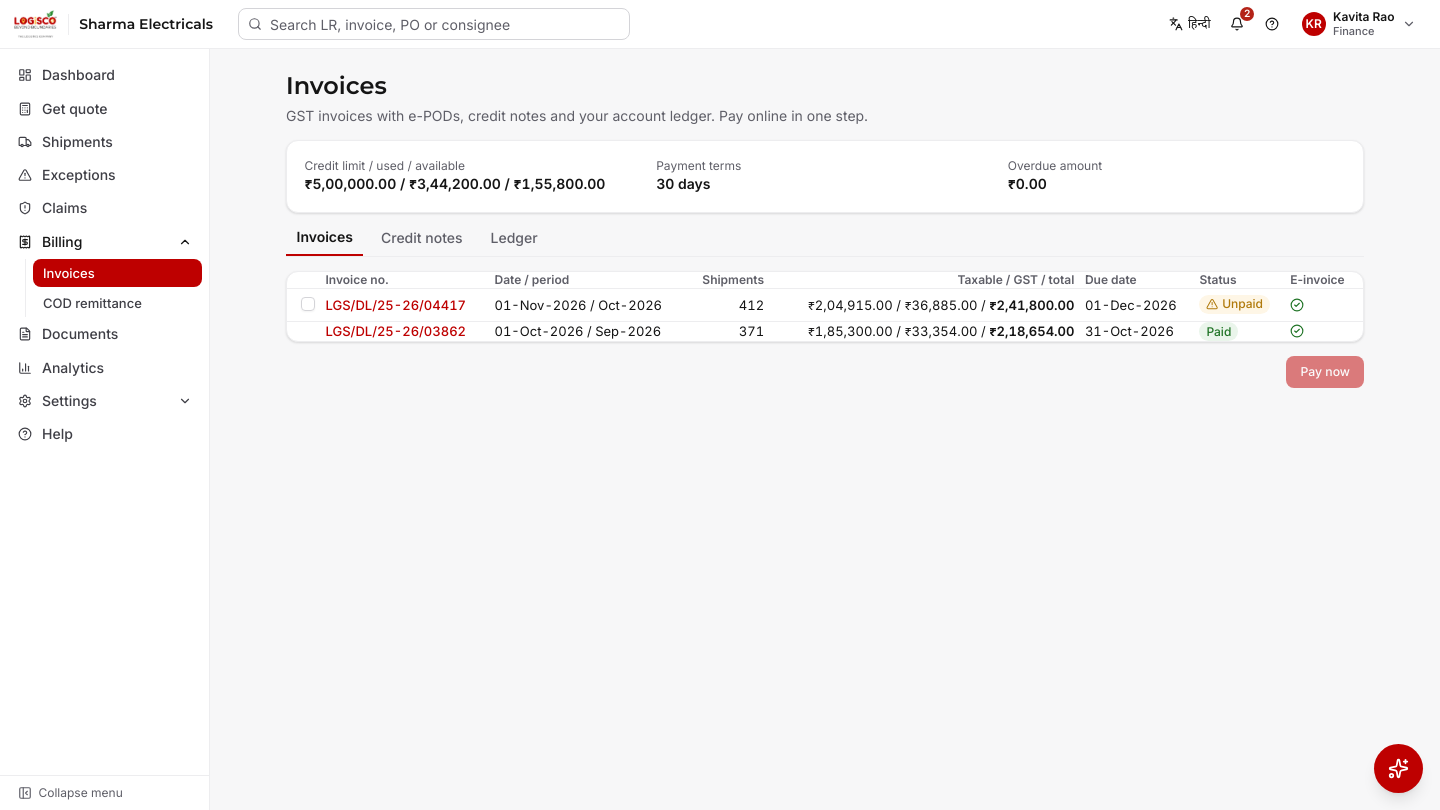
Test case: Customer money: CP-23, CP-24, CP-25, PA-34, PA-36, ERP-31, ERP-34 › CP-24: Kavita sees the credit summary, pays the October invoice, and the ledger shows it
The width and height of the screenshot is (1440, 810).
Expected: the element with test id "credit" shows "₹5,00,000.00 / ₹3,44,200.00 / ₹1,55,800.00", top-left (304, 175), bottom-right (605, 192)
Expected: the element with test id "credit" shows "30 days", top-left (656, 175), bottom-right (711, 192)
Click the checkbox: (308, 304) top-left (301, 296), bottom-right (315, 310)
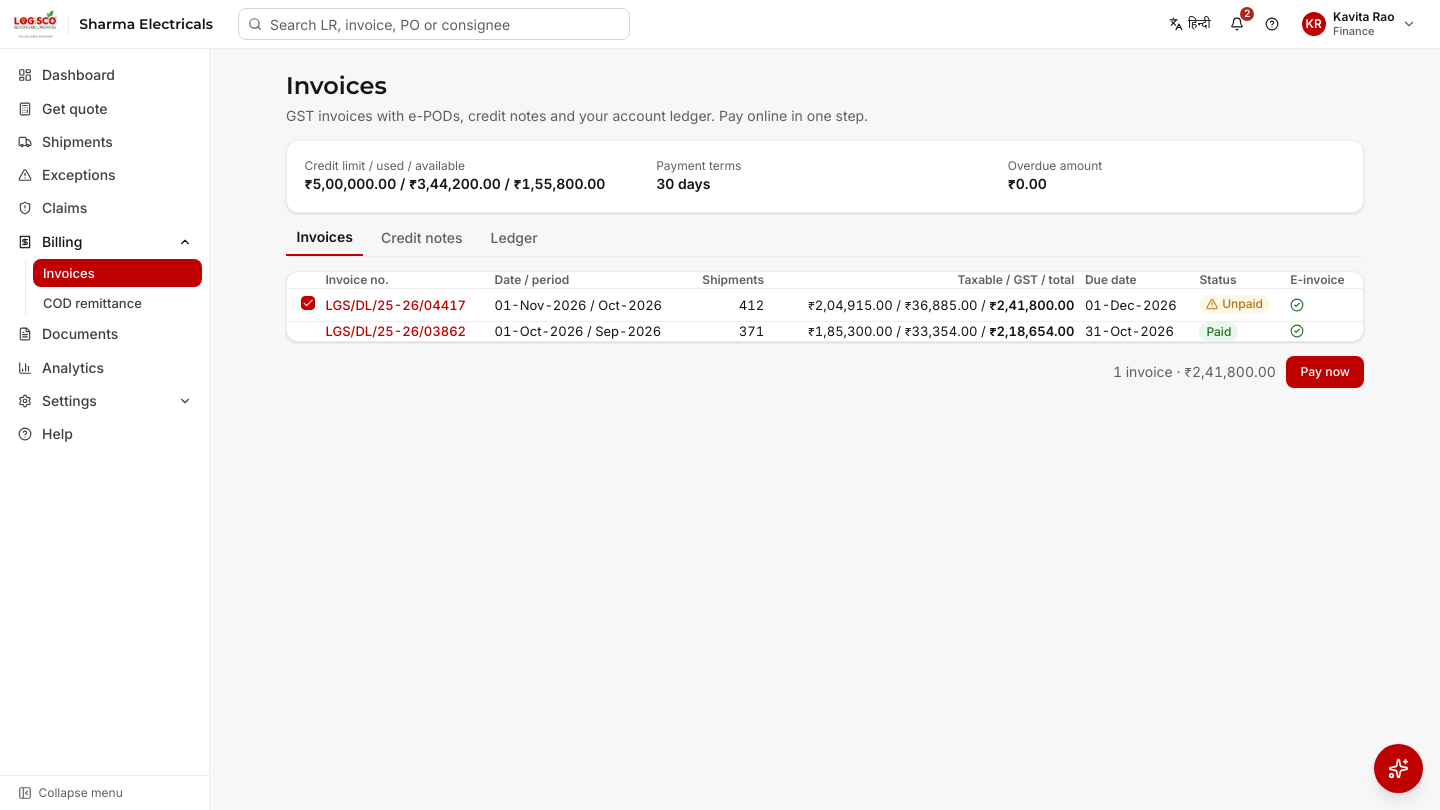
Click the button "Pay now": (1325, 372) top-left (1286, 356), bottom-right (1364, 388)
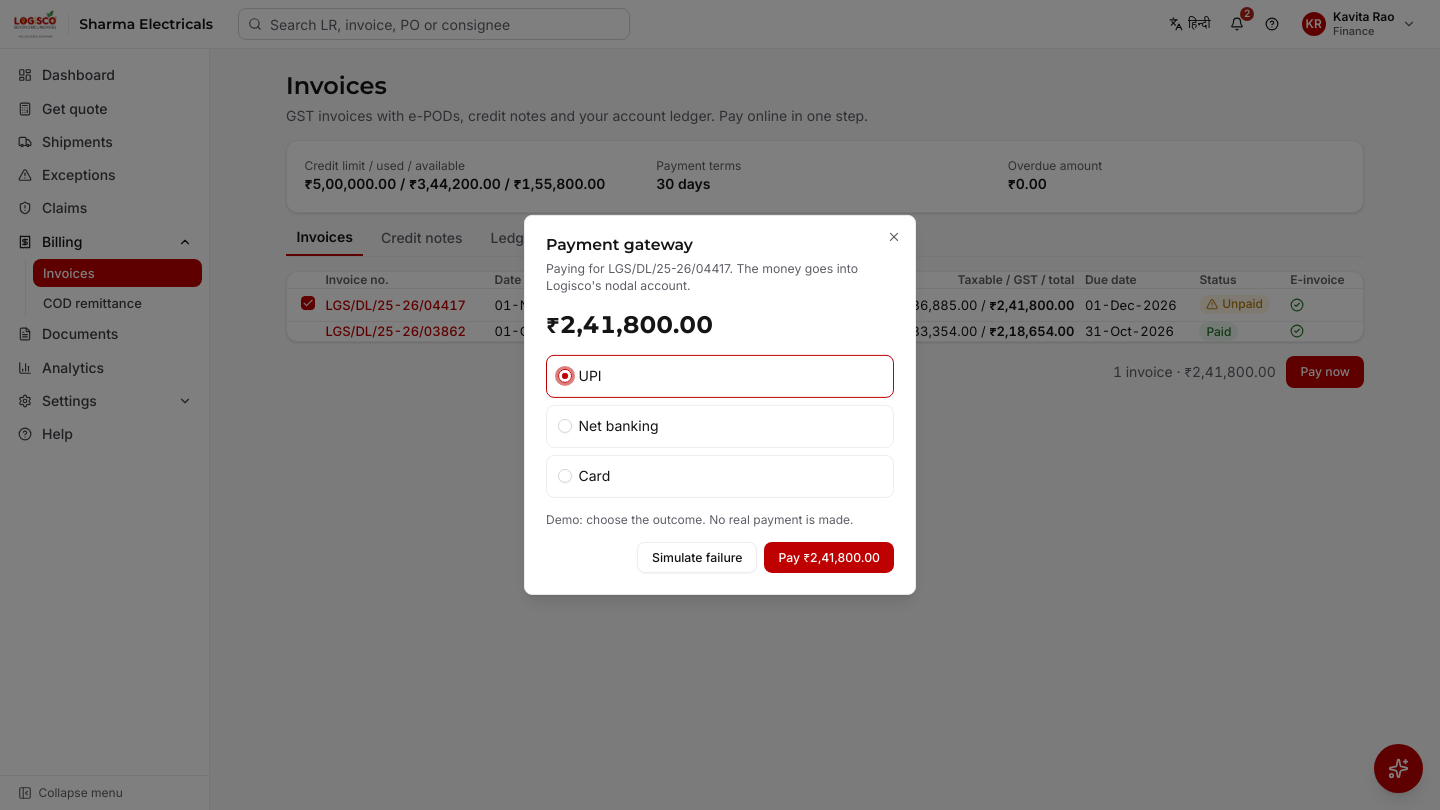
Expected: the text with test id "pay-amount" reads "₹2,41,800.00", top-left (546, 310), bottom-right (713, 339)
Click the radio button named "Net banking": (564, 426) top-left (558, 419), bottom-right (572, 433)
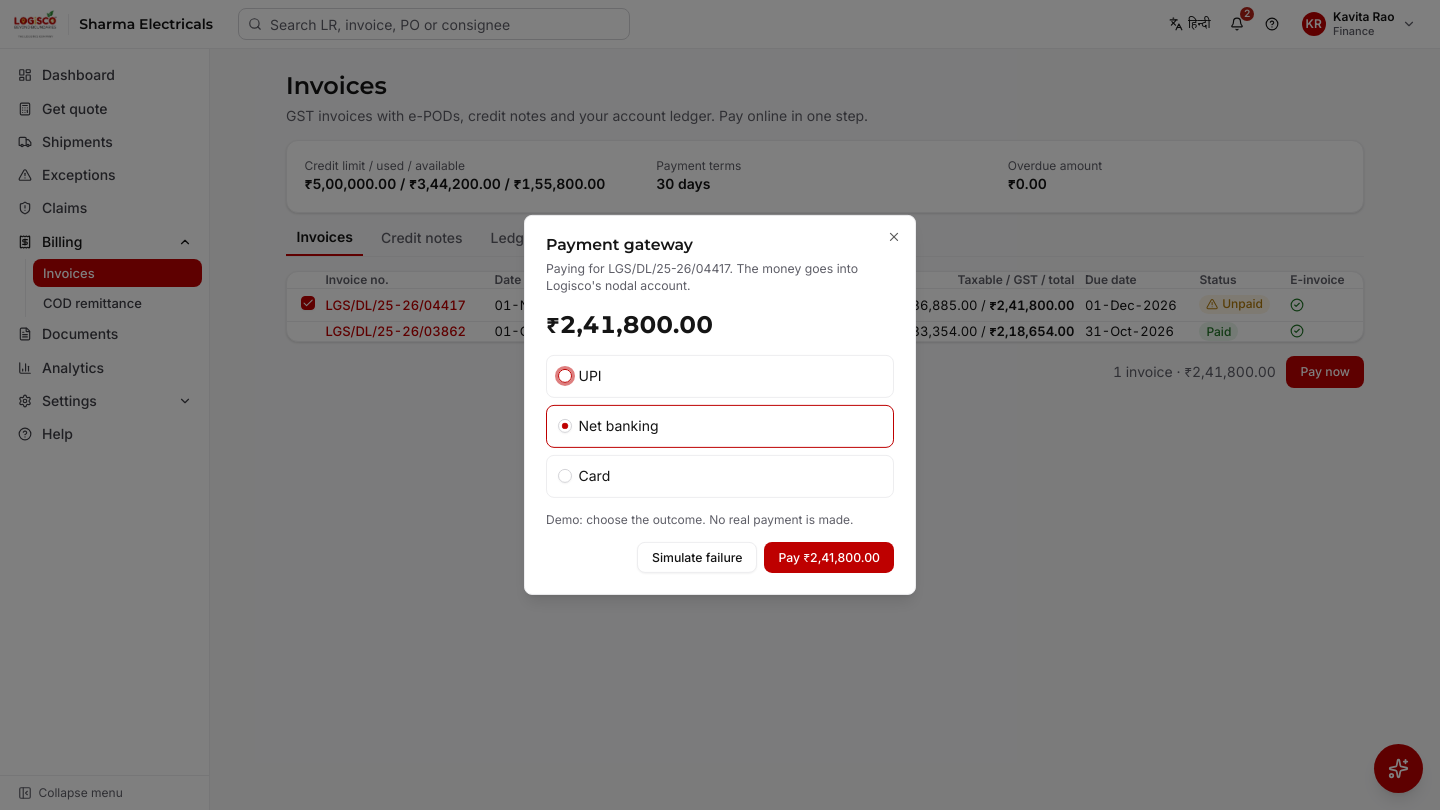
Click the button "Pay ₹2,41,800.00": (829, 557) top-left (764, 542), bottom-right (894, 573)
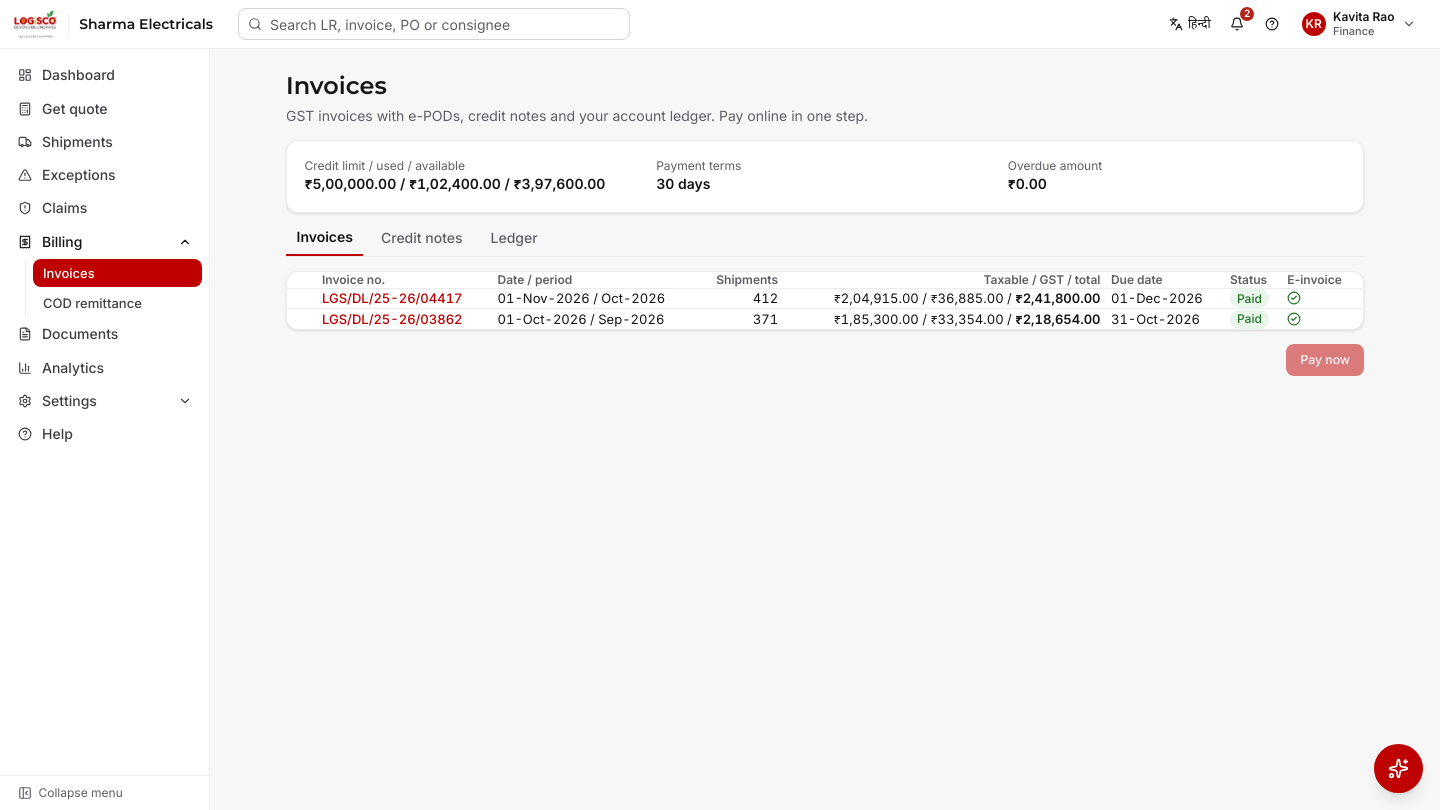
Expected: the row "LGS/DL/25-26/04417" shows "Paid", top-left (1237, 290), bottom-right (1262, 306)
Expected: the element with test id "credit" shows "₹1,02,400.00 / ₹3,97,600.00", top-left (304, 175), bottom-right (605, 192)
Click the tab "Ledger": (514, 241) top-left (480, 226), bottom-right (548, 256)
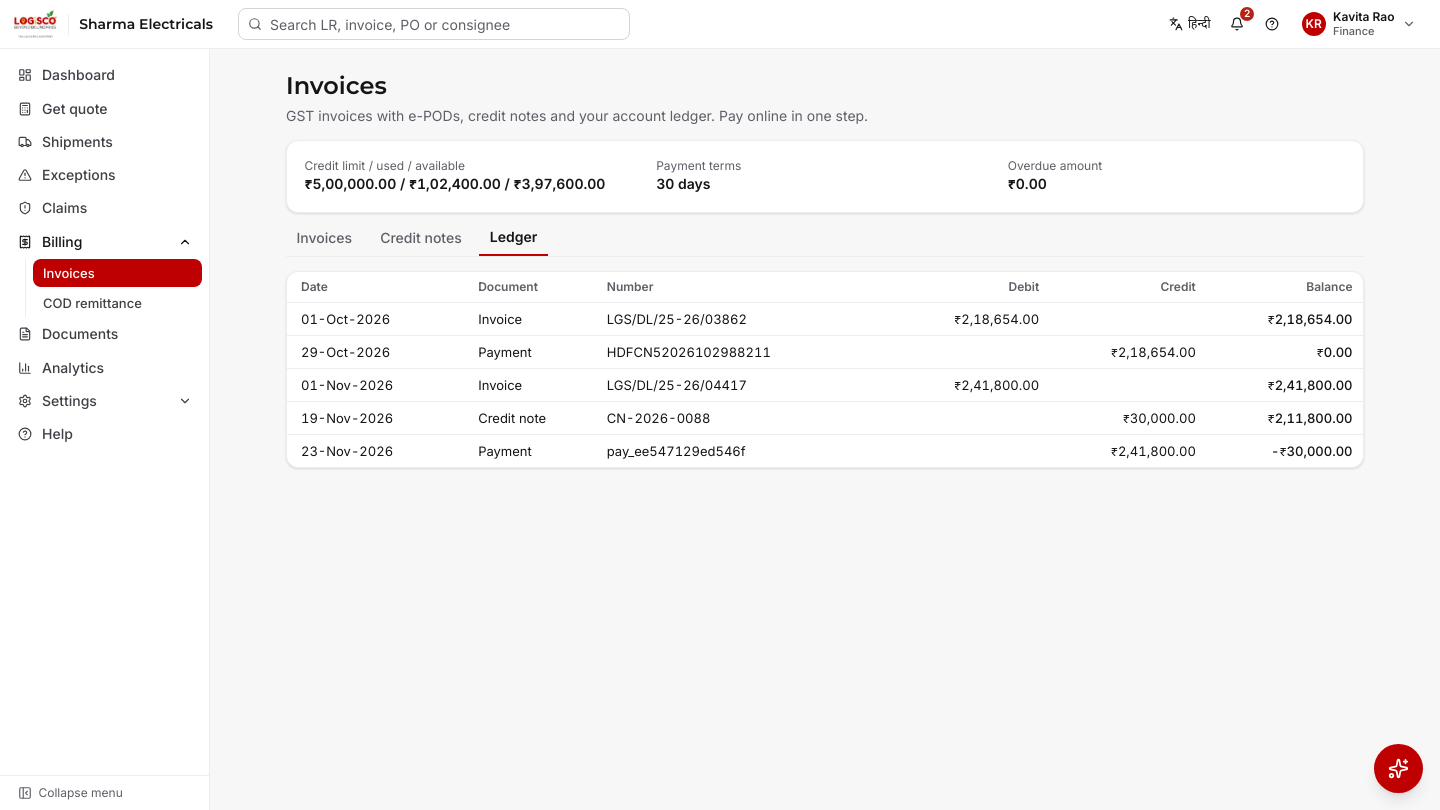
Expected: the row named "pay_ee547129ed546f" shows "Payment", top-left (478, 442), bottom-right (532, 458)
Click the tab "Credit notes": (421, 241) top-left (370, 226), bottom-right (472, 256)
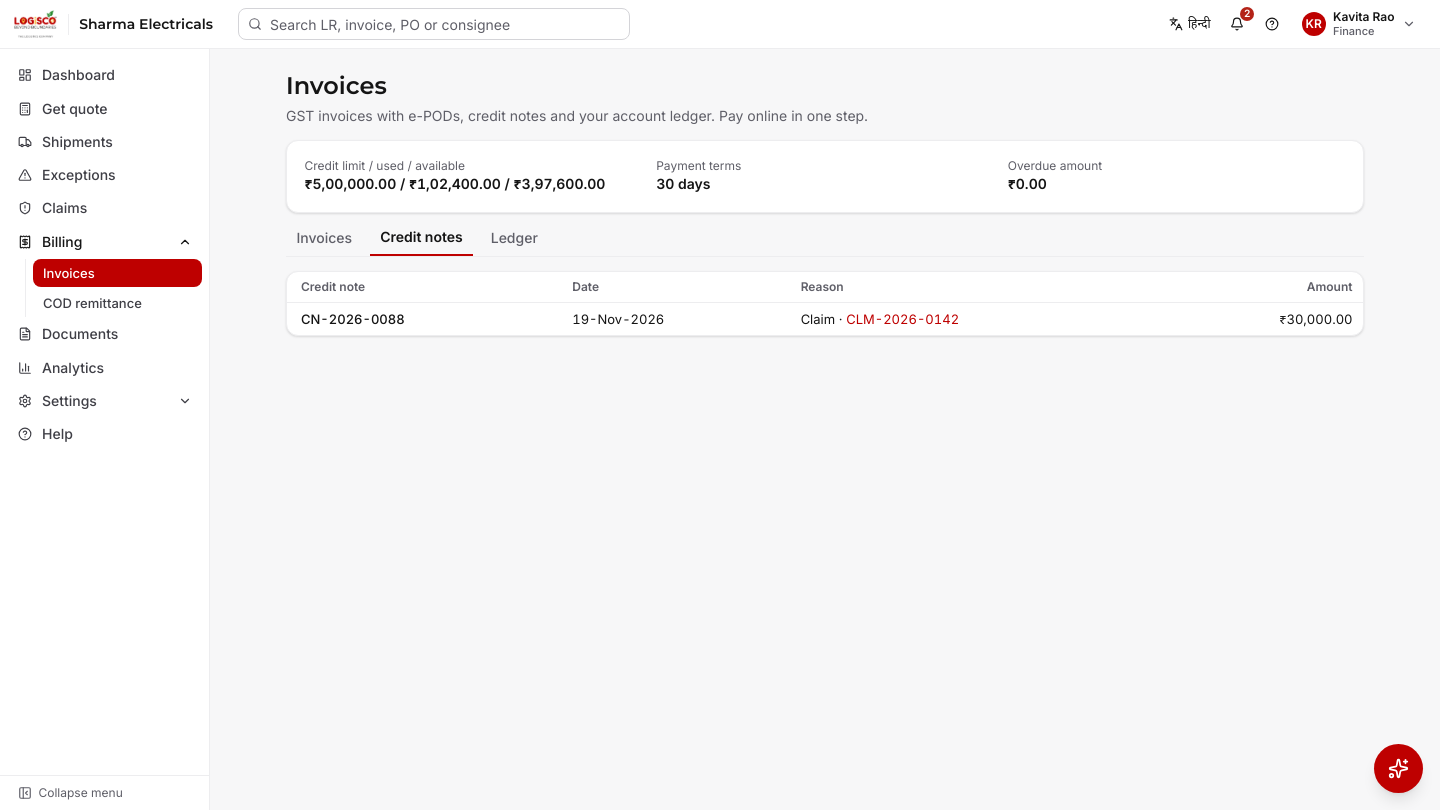
Expected: the row "CN-2026-0088" shows "₹30,000.00", top-left (1279, 310), bottom-right (1352, 326)
